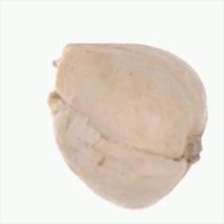L3: (46, 43, 71, 105)
L4: (47, 41, 206, 209)
